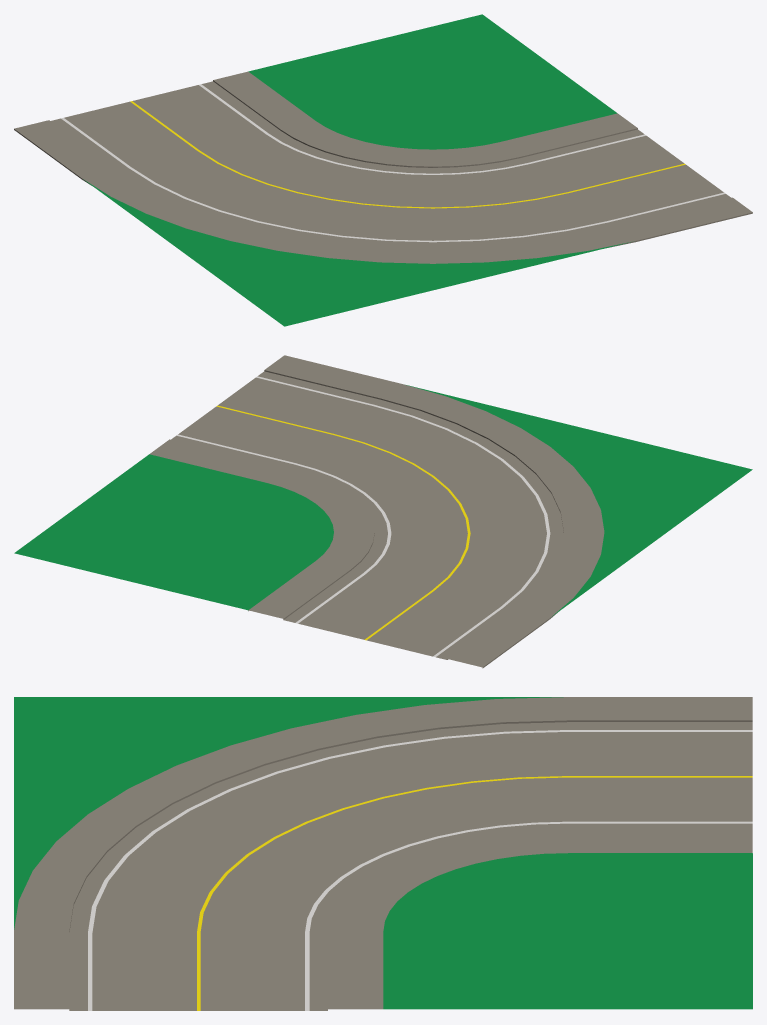
3 renders of one model, top to bottom at view 1: azimuth 30°, elevation 25°; view 2: azimuth 150°, elevation 25°; view 3: azimuth 270°, elevation 25°, orthographic. The views are drawn at different scales.
Parts seen in each view (by area): view 1: Straight; view 2: Straight; view 3: Straight.
Boxes of the visible parts, x1,y1,x2,y2 form: Straight: [14, 14, 752, 326]; Straight: [14, 355, 752, 668]; Straight: [14, 697, 752, 1010].
Bounding box in the file's own units: 40 × 0.1 × 40.01.
